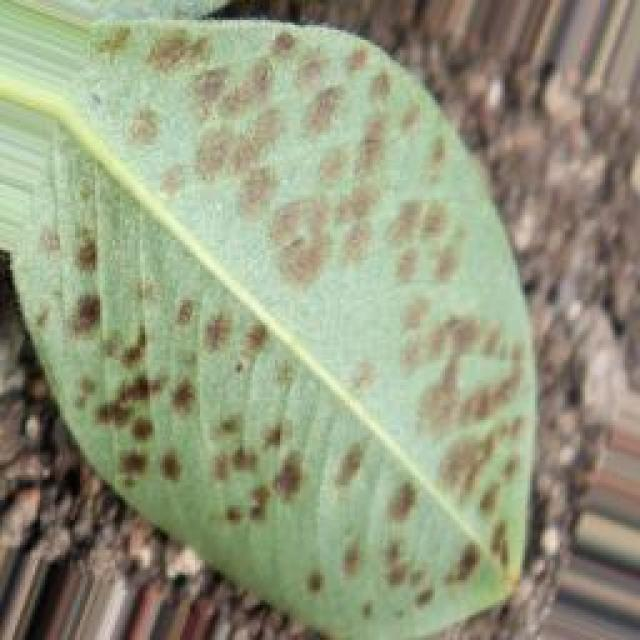Whitefly: (4, 0, 512, 633)
